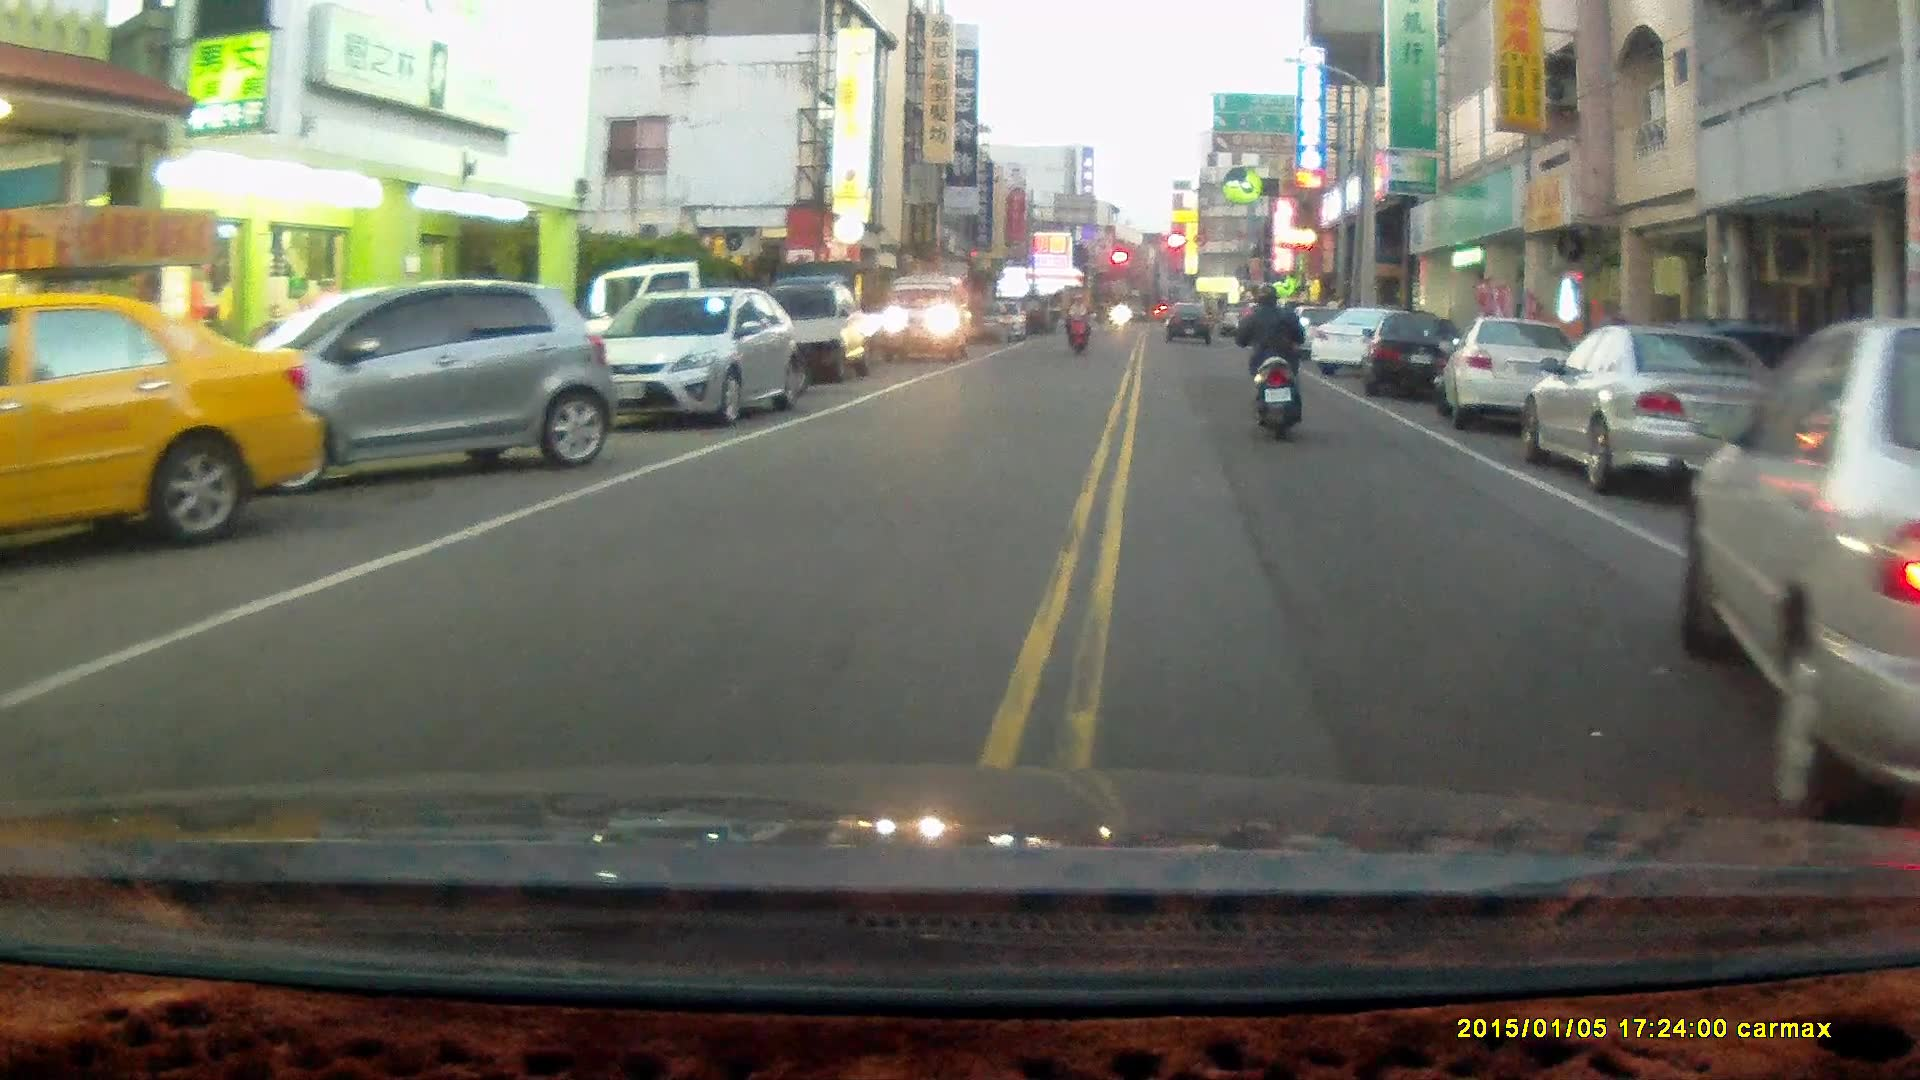rider: (1226, 280, 1301, 441), (1063, 290, 1092, 354)
vehicle: (1677, 313, 1919, 822), (203, 276, 607, 490), (1, 289, 323, 555), (1517, 320, 1787, 496), (584, 283, 808, 427), (1437, 317, 1572, 429), (753, 277, 894, 378), (885, 272, 971, 363)
